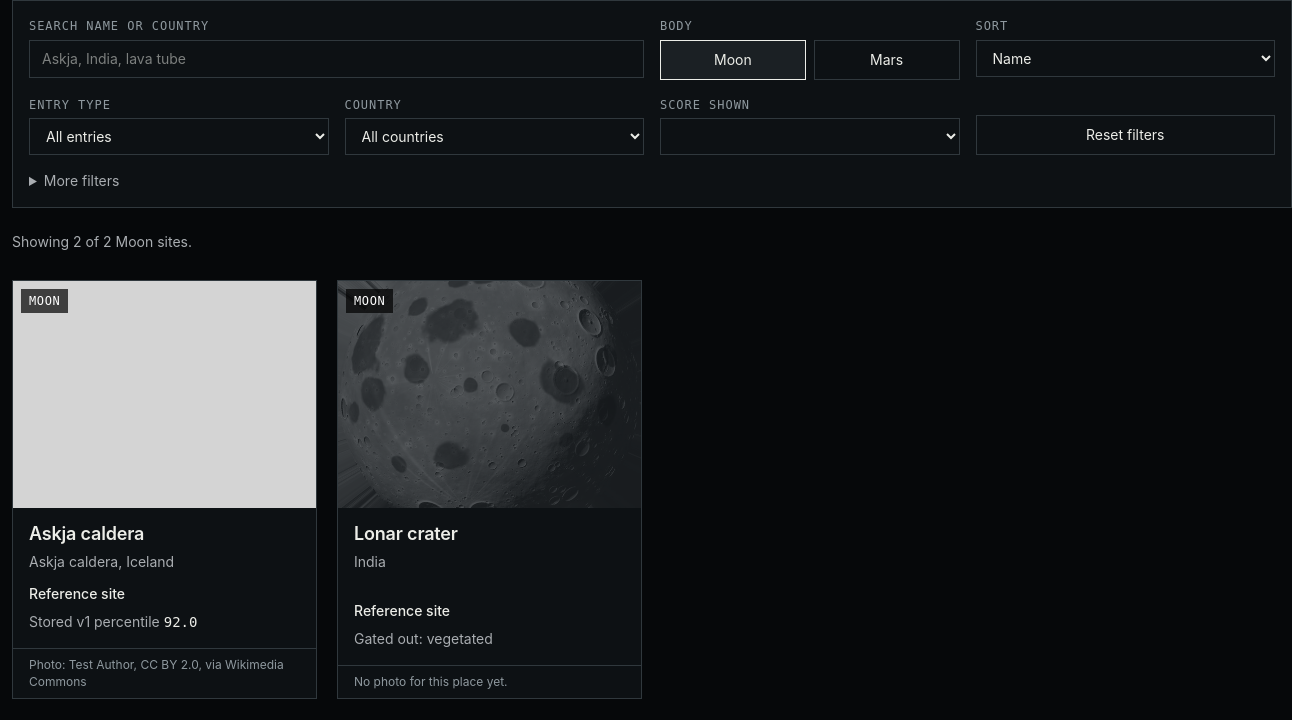
Test case: Explorer gallery › filters by country
Select "India" in the dropdown labelled "Country" at (494, 137), box [344,118,644,155]
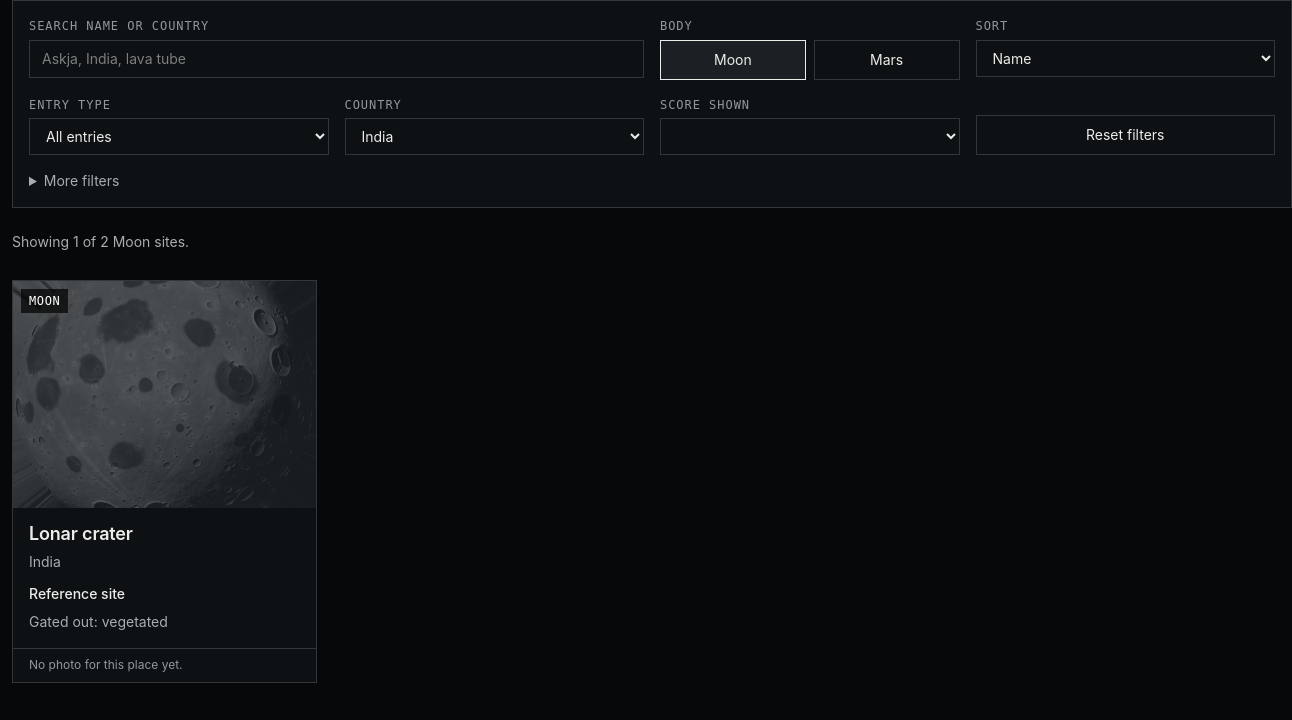
Expected: the link "Lonar crater" is shown, [29,523,133,544]
Expected: the link "Askja caldera" is gone
